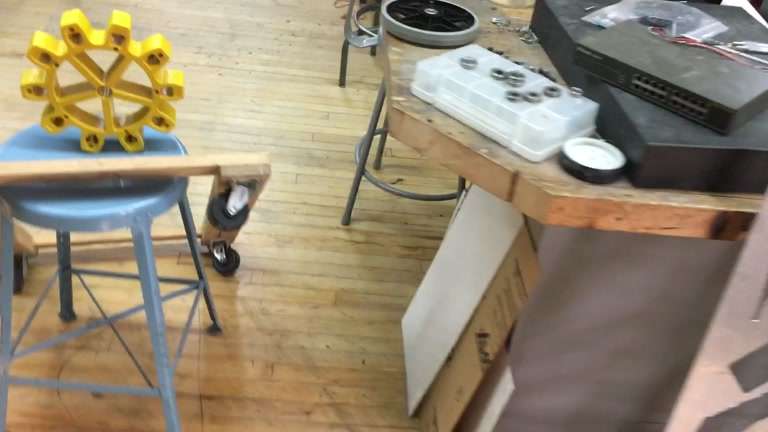gear: (20, 12, 186, 154)
